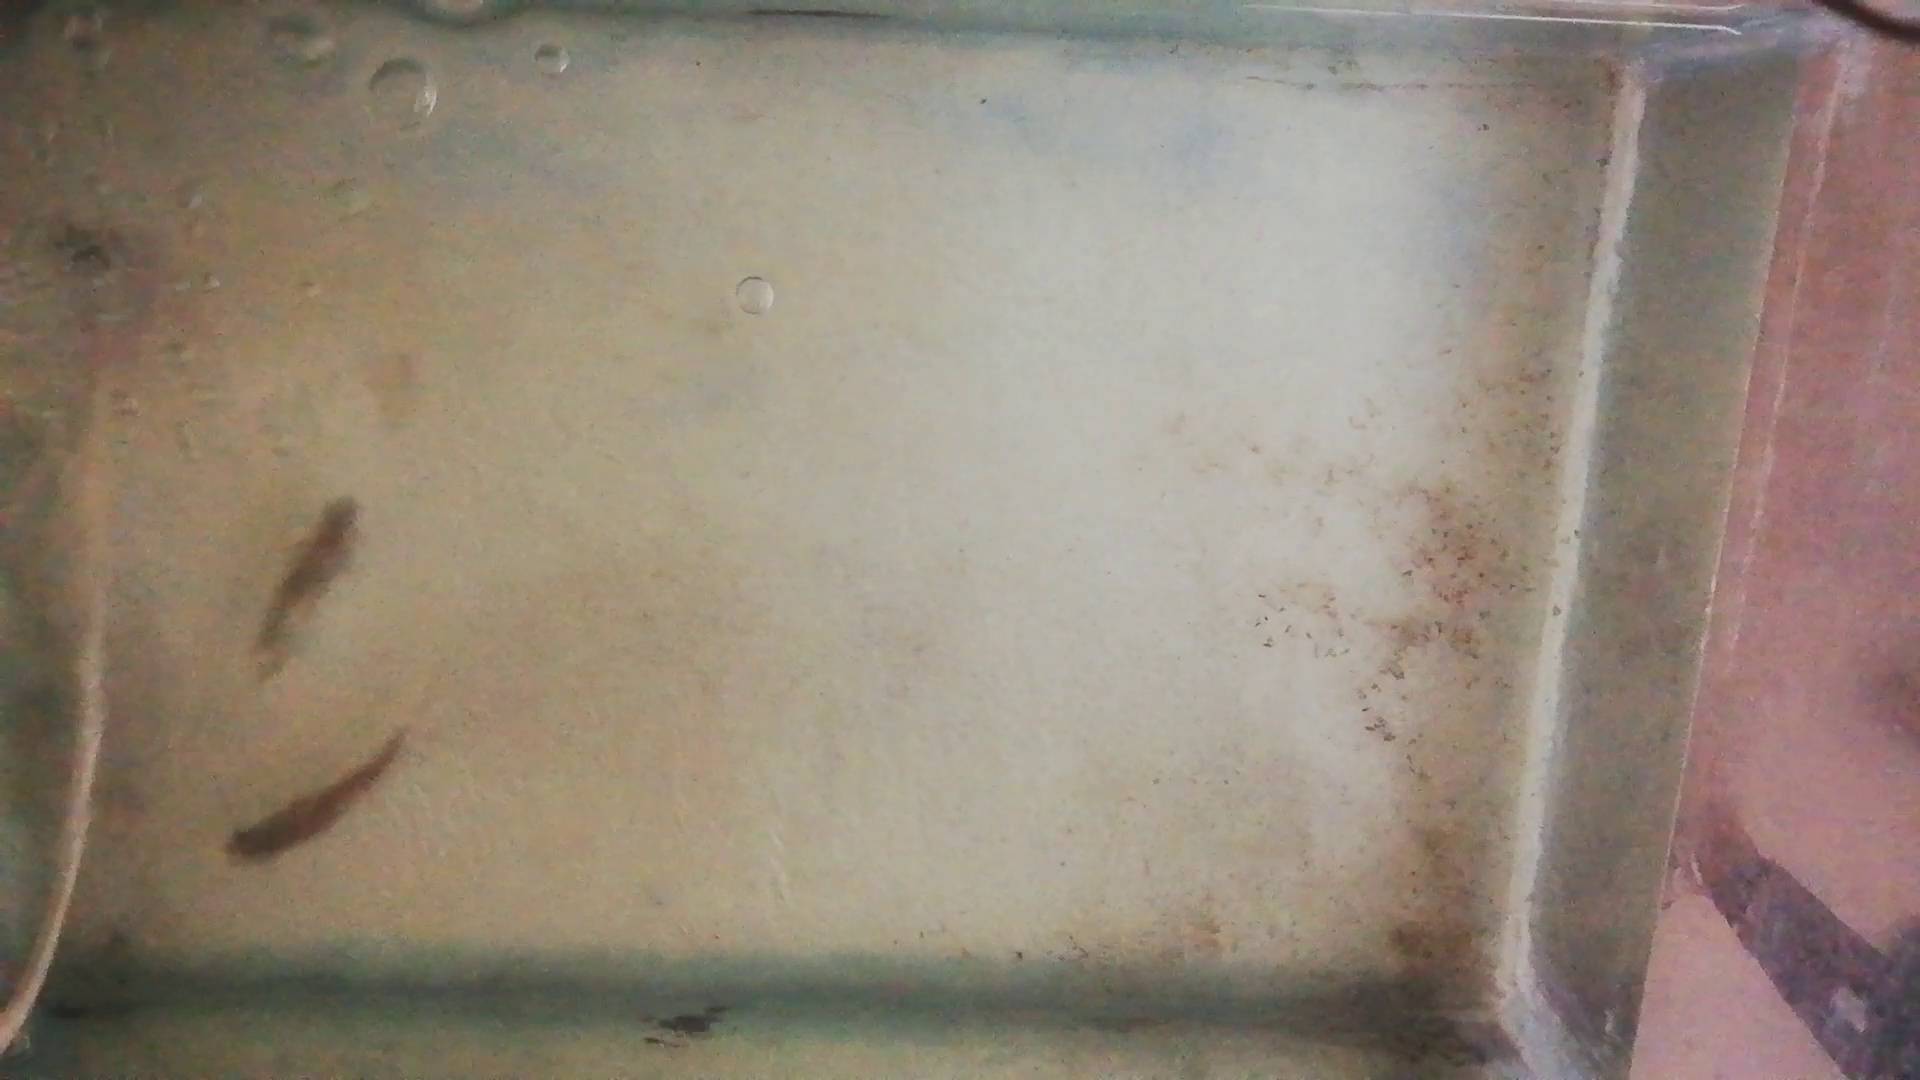fish: (222, 733, 404, 865), (255, 493, 363, 655)
